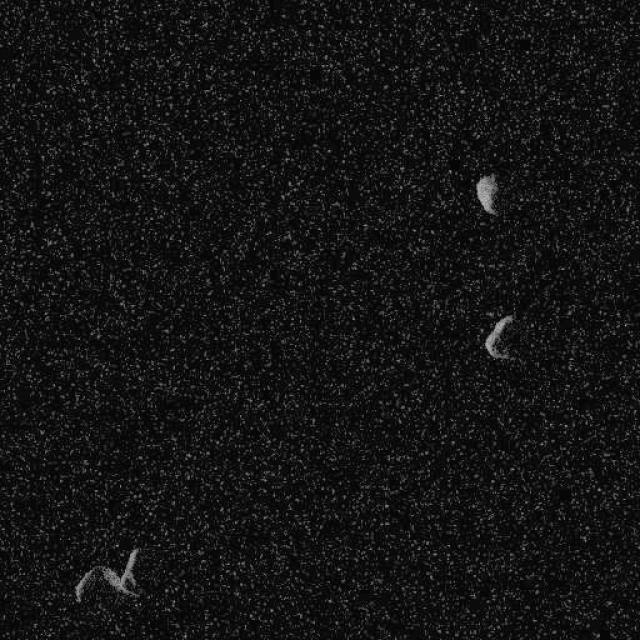D2: (72, 546, 142, 604), (483, 312, 515, 360), (474, 172, 498, 216)
